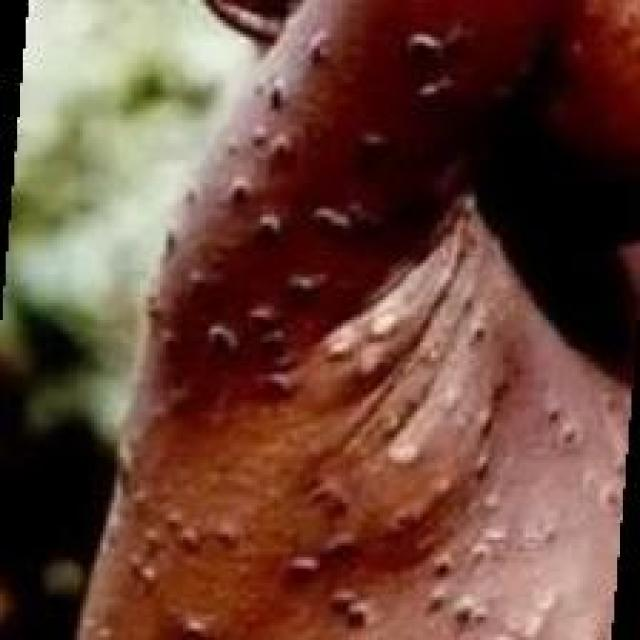monkeypox: (104, 19, 624, 640)
